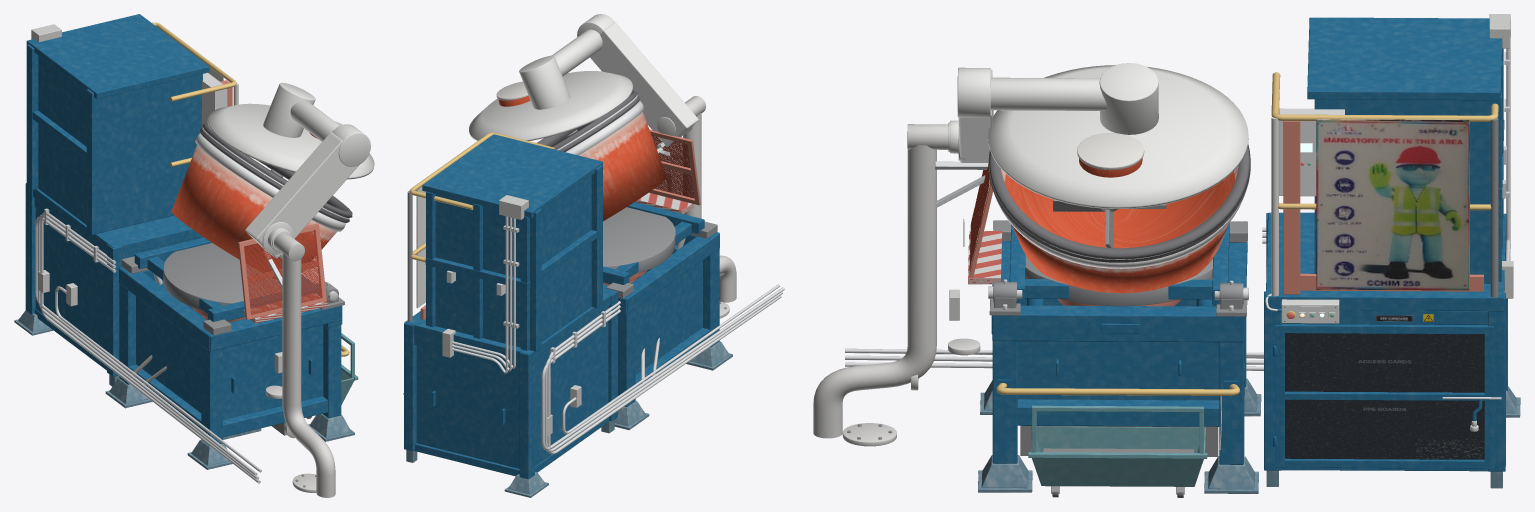
File: mixerf modify CC.fbx
3 renders of one model, left to right at view 1: azimuth 30°, elevation 25°; view 2: azimuth 150°, elevation 25°; view 3: azimuth 270°, elevation 25°, orthographic. The views are drawn at different scales.
Parts seen in each view (by area): view 1: Upper_Tower_Body, Upper_Tower_TopCap, Mixer_Top_Hood.012, Mixer_Panel_Left, Cab_Panel_Rear, Exhaust_Main_DropPipe, Mixer_Top_Hood.003, Pan_CastBase_Ring, Mixer_Top_Hood, Mixer_Panel_Rear, Left_MeshGuard_Sheet, Cab_Top_DeckPlatform (+36 smaller); view 2: Upper_Tower_Body, Cab_Panel_Right, Upper_Tower_TopCap, Mixer_Top_Hood, Cab_Panel_Rear, Mixer_Top_Hood.012, Mixer_Panel_Rear, Mixer_Top_Hood.003, Pan_CastBase_Ring, Mixer_Beam_Top_Rear, Cab_Top_DeckPlatform, Cab_Col_1_02_0_47 (+40 smaller); view 3: PPE_Safety_SignBoard, Mixer_Top_Hood, Upper_Tower_TopCap, Mixer_Top_Hood.012, Cupboard_Window_Upper, Cupboard_Window_Lower, Mixer_Front_DeepPanel, Exhaust_Main_DropPipe, Sample_Trolley_Bin, Mixer_Front_TopHeader, Upper_Tower_Body, Cab_Top_DeckPlatform (+41 smaller).
Boxes of the visible parts, x1,y1,x2,y2 form: Upper_Tower_Body: [38, 55, 202, 233]; Upper_Tower_TopCap: [26, 14, 209, 98]; Mixer_Top_Hood.012: [171, 145, 337, 279]; Mixer_Panel_Left: [223, 325, 323, 419]; Cab_Panel_Rear: [35, 208, 106, 350]; Exhaust_Main_DropPipe: [282, 253, 335, 497]; Mixer_Top_Hood.003: [245, 132, 358, 258]; Pan_CastBase_Ring: [163, 243, 282, 310]; Mixer_Top_Hood: [207, 103, 374, 179]; Mixer_Panel_Rear: [136, 296, 201, 412]; Left_MeshGuard_Sheet: [244, 230, 322, 314]; Cab_Top_DeckPlatform: [33, 189, 201, 255]; Upper_Tower_Body: [435, 176, 591, 347]; Cab_Panel_Right: [416, 345, 519, 468]; Upper_Tower_TopCap: [422, 134, 602, 217]; Mixer_Top_Hood: [469, 71, 633, 141]; Cab_Panel_Rear: [535, 317, 608, 466]; Mixer_Top_Hood.012: [579, 112, 666, 221]; Mixer_Panel_Rear: [635, 260, 702, 374]; Mixer_Top_Hood.003: [590, 22, 698, 146]; Pan_CastBase_Ring: [603, 207, 675, 274]; Mixer_Beam_Top_Rear: [627, 233, 719, 313]; Cab_Top_DeckPlatform: [404, 287, 616, 360]; Cab_Col_1_02_0_47: [519, 351, 534, 479]; PPE_Safety_SignBoard: [1316, 119, 1469, 290]; Mixer_Top_Hood: [988, 65, 1248, 208]; Upper_Tower_TopCap: [1307, 17, 1502, 100]; Mixer_Top_Hood.012: [1001, 166, 1238, 293]; Cupboard_Window_Upper: [1285, 333, 1484, 392]; Cupboard_Window_Lower: [1285, 400, 1484, 459]; Mixer_Front_DeepPanel: [1017, 341, 1219, 400]; Exhaust_Main_DropPipe: [813, 145, 936, 438]; Sample_Trolley_Bin: [1030, 426, 1205, 486]; Mixer_Front_TopHeader: [992, 305, 1244, 342]; Upper_Tower_Body: [1314, 99, 1493, 283]; Cab_Top_DeckPlatform: [1265, 212, 1506, 311].
Size of the model in its own units: 213 by 306 by 468.
